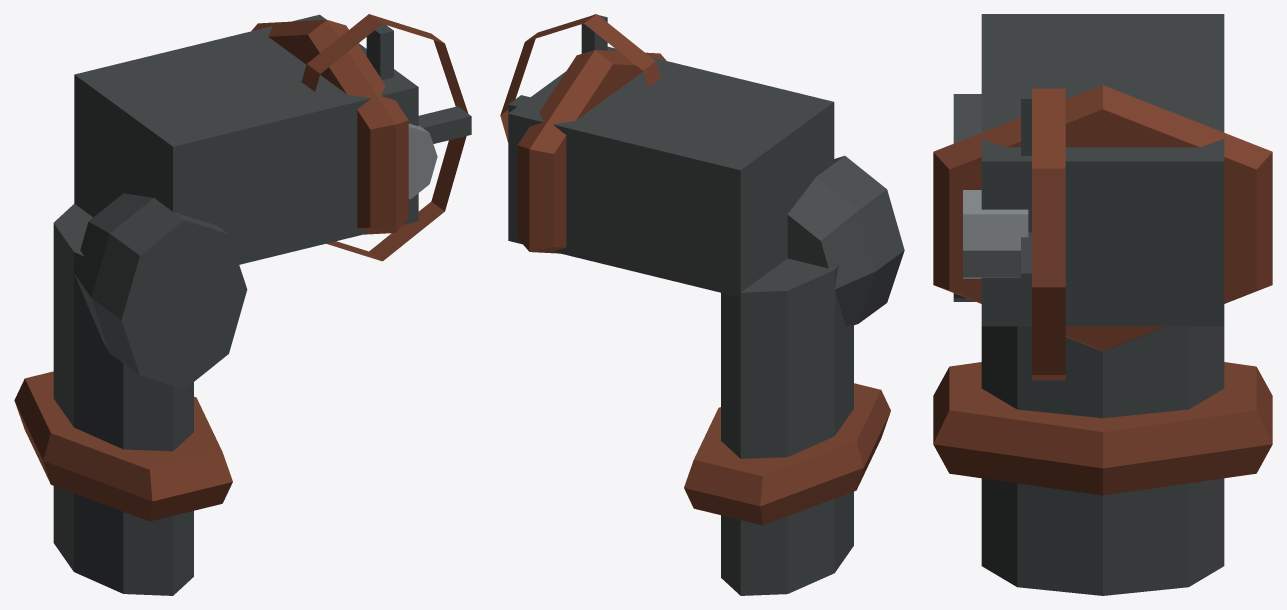
The model's file is pipe_elbow_valve.glb.
3 views of the same model, side by side, from view 1: azimuth 30°, elevation 25°; view 2: azimuth 150°, elevation 25°; view 3: azimuth 270°, elevation 25° (orthographic). The views are drawn at different scales.
Visible parts, largest first — view 1: Tubo horizontal, Tubo vertical, Codo redondo, Brida, Brida.001, Aro volante, Cubo volante, Radio volante, Radio volante.001; view 2: Tubo horizontal, Tubo vertical, Brida, Codo redondo, Brida.001, Aro volante, Radio volante.001; view 3: Tubo horizontal, Tubo vertical, Brida, Brida.001, Aro volante, Cubo volante, Codo redondo, Radio volante.001, Radio volante.
Part boxes in pixels (left/top/right/bottom): Tubo horizontal: left=74, top=14, right=418, bottom=264; Tubo vertical: left=53, top=203, right=193, bottom=595; Codo redondo: left=74, top=193, right=247, bottom=389; Brida: left=14, top=371, right=232, bottom=521; Brida.001: left=251, top=19, right=408, bottom=234; Aro volante: left=301, top=14, right=468, bottom=261; Cubo volante: left=408, top=123, right=437, bottom=199; Radio volante: left=418, top=106, right=471, bottom=143; Radio volante.001: left=366, top=24, right=393, bottom=79; Tubo horizontal: left=508, top=46, right=834, bottom=297; Tubo vertical: left=721, top=258, right=853, bottom=595; Brida: left=684, top=383, right=890, bottom=525; Codo redondo: left=787, top=155, right=904, bottom=326; Brida.001: left=517, top=50, right=666, bottom=253; Aro volante: left=500, top=14, right=660, bottom=142; Radio volante.001: left=581, top=14, right=607, bottom=53; Tubo horizontal: left=981, top=14, right=1224, bottom=326; Tubo vertical: left=981, top=326, right=1224, bottom=595; Brida: left=933, top=362, right=1272, bottom=495; Brida.001: left=933, top=85, right=1272, bottom=351; Aro volante: left=1032, top=88, right=1065, bottom=380; Cubo volante: left=963, top=190, right=1028, bottom=278; Codo redondo: left=953, top=94, right=981, bottom=301; Radio volante.001: left=1021, top=90, right=1031, bottom=155; Radio volante: left=1021, top=232, right=1031, bottom=296.
Size of the model in its own units: 0.5 by 0.6 by 0.3.
